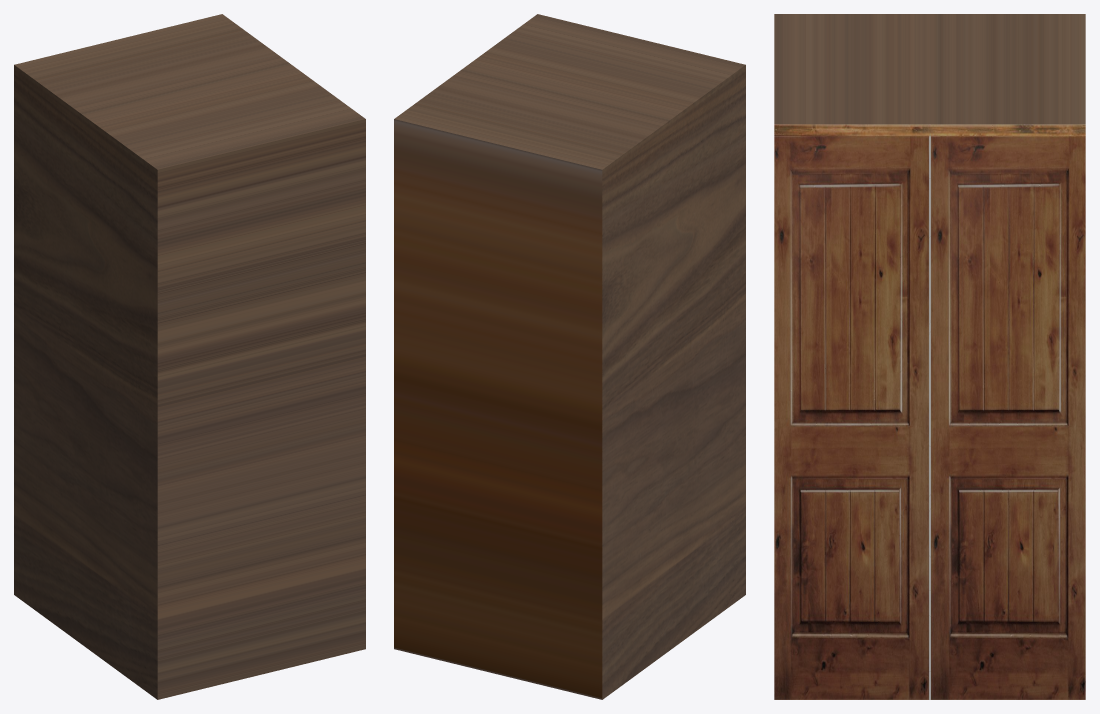
File: Wardrobe.fbx
The picture shows the model from 3 angles, left to right: view 1: azimuth 30°, elevation 25°; view 2: azimuth 150°, elevation 25°; view 3: azimuth 270°, elevation 25°; orthographic projection. The views are drawn at different scales.
Visible parts, largest first — view 1: Wardrobe.002, Wardrobe.003, Wardrobe.001, Wardrobe.004; view 2: Wardrobe.001, Wardrobe.004, Wardrobe.002, Wardrobe.003; view 3: Wardrobe.001, Wardrobe.002, Wardrobe.003, Wardrobe.004.
Boxes of the visible parts, left/top/right/bottom form: Wardrobe.002: left=57, top=45, right=365, bottom=425; Wardrobe.003: left=75, top=374, right=365, bottom=699; Wardrobe.001: left=14, top=14, right=264, bottom=533; Wardrobe.004: left=14, top=378, right=146, bottom=691; Wardrobe.001: left=394, top=88, right=697, bottom=553; Wardrobe.004: left=394, top=432, right=734, bottom=699; Wardrobe.002: left=437, top=14, right=745, bottom=354; Wardrobe.003: left=663, top=307, right=745, bottom=602; Wardrobe.001: left=879, top=14, right=1085, bottom=584; Wardrobe.002: left=774, top=14, right=992, bottom=401; Wardrobe.003: left=774, top=368, right=952, bottom=699; Wardrobe.004: left=798, top=465, right=1085, bottom=699.
Bounding box in the file's own units: 514 × 1251 × 614.
